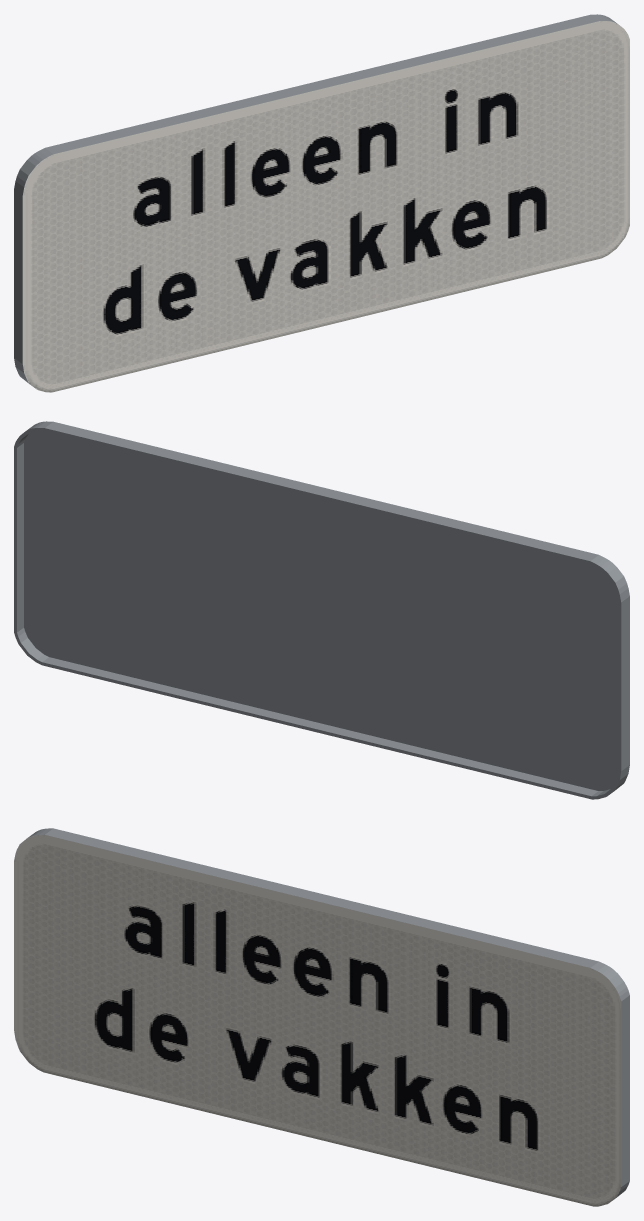
3 renders of one model, top to bottom at view 1: azimuth 30°, elevation 25°; view 2: azimuth 150°, elevation 25°; view 3: azimuth 330°, elevation 25°, orthographic.
Visible parts, largest first — view 1: cat_6d876edcb7b23e1a; view 2: cat_6d876edcb7b23e1a; view 3: cat_6d876edcb7b23e1a.
Part boxes in pixels (x1,y1,x2,y2): cat_6d876edcb7b23e1a: (14,14,629,392); cat_6d876edcb7b23e1a: (14,421,629,799); cat_6d876edcb7b23e1a: (14,828,629,1206).
Size of the model in its own units: 0.6 by 0.015 by 0.2246.
Materials: 2 (1 with a texture image).
